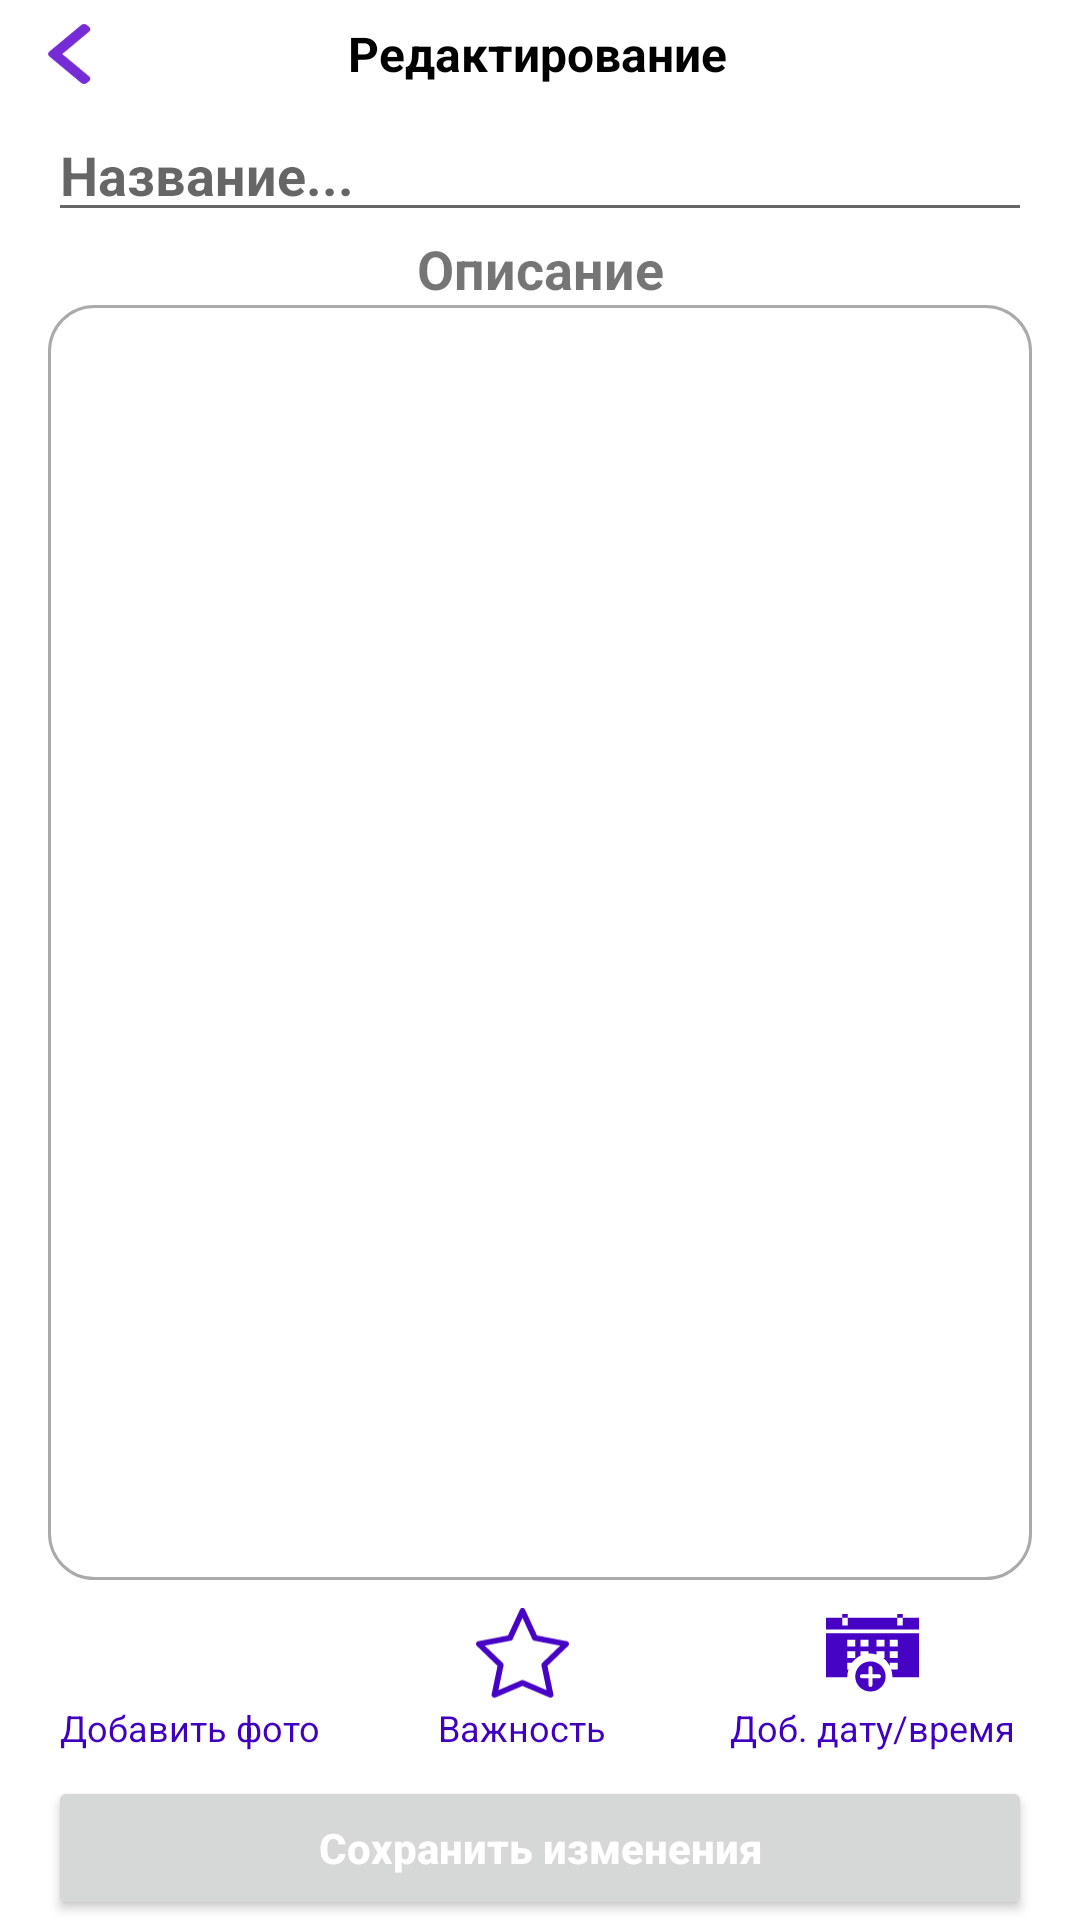

Screen size 1080×1920. Icon name, then its box in pixels as bbox=[x1, y1, x2, y2]:
star in add notes: bbox=[476, 1608, 569, 1698]
